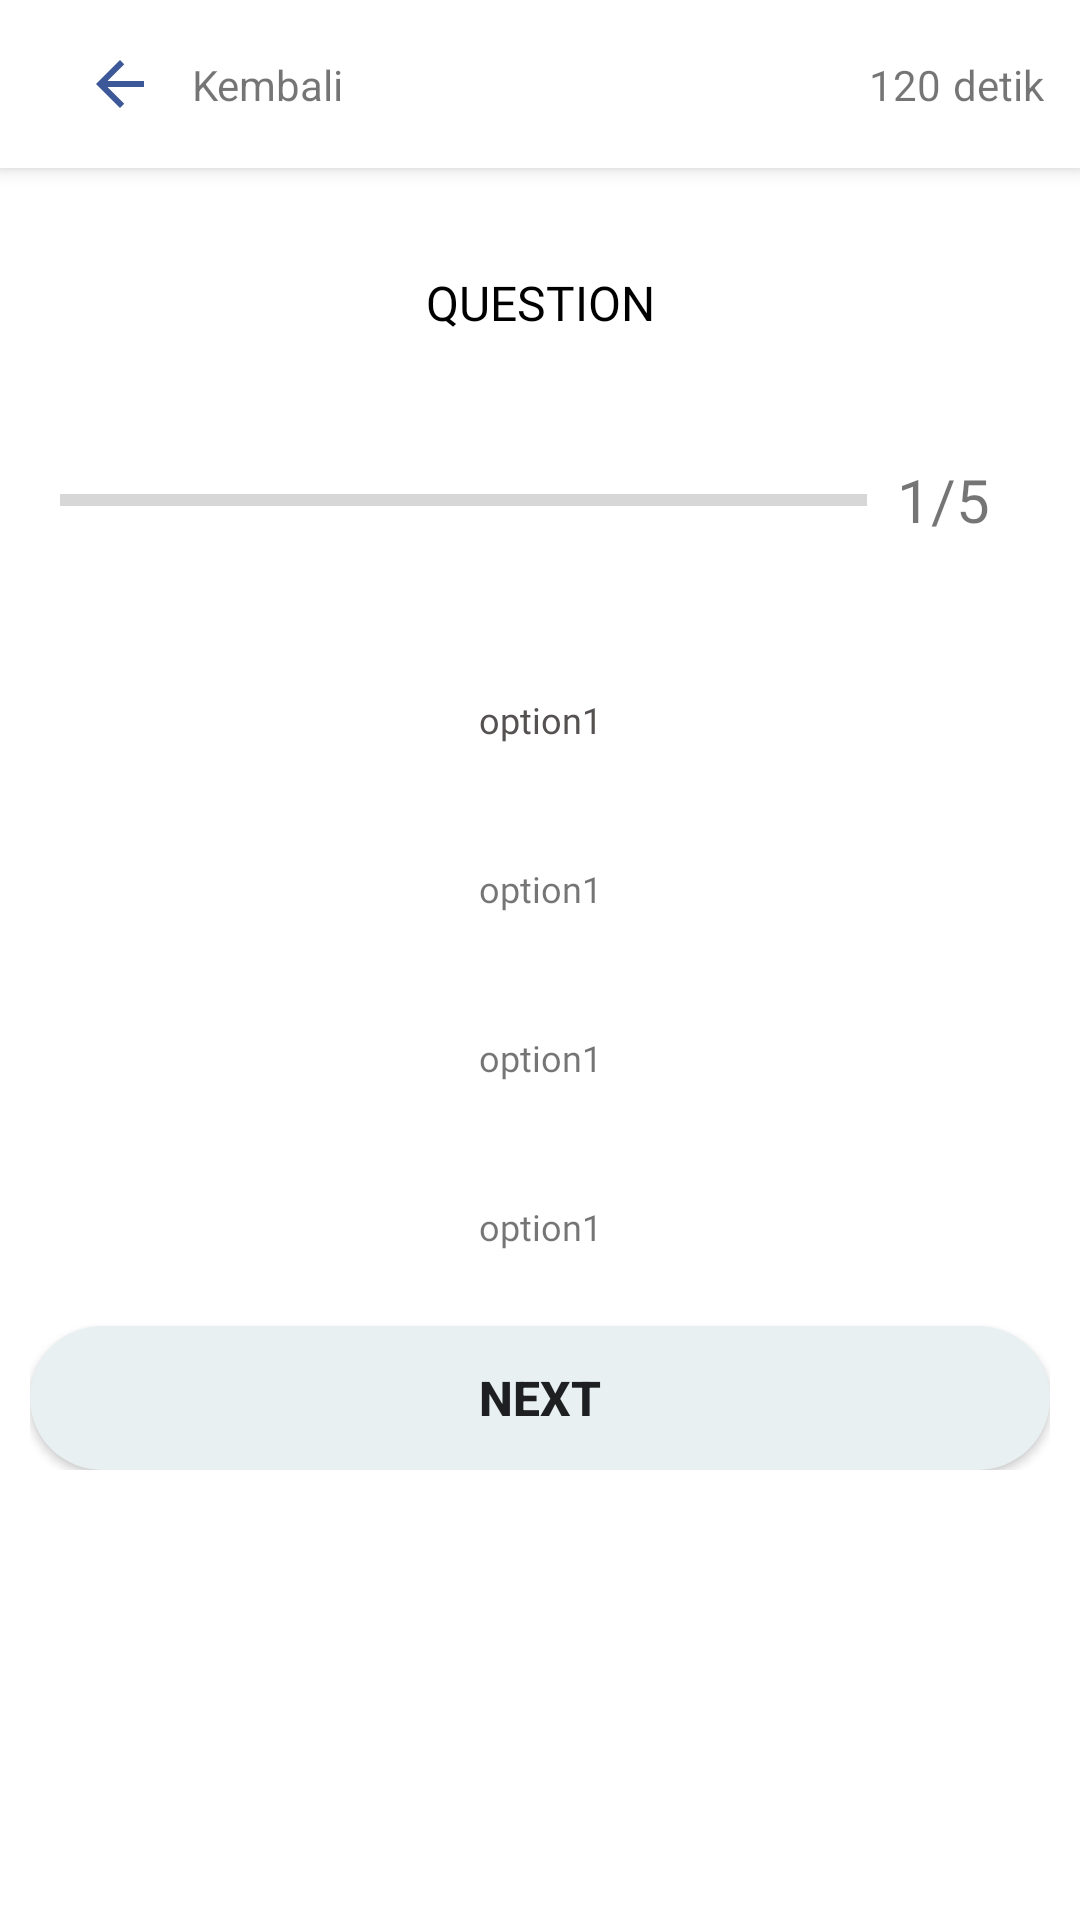

Locate icon controls on the screen. Image size 1080px x 1920px, boxes as {"x1": x1, "y1": y1, "x2": x2, "y2": y2}.
back: {"x1": 96, "y1": 60, "x2": 144, "y2": 108}
